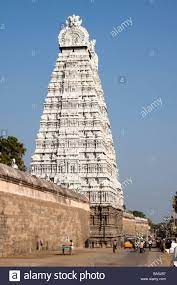Temple: (31, 15, 126, 216)
